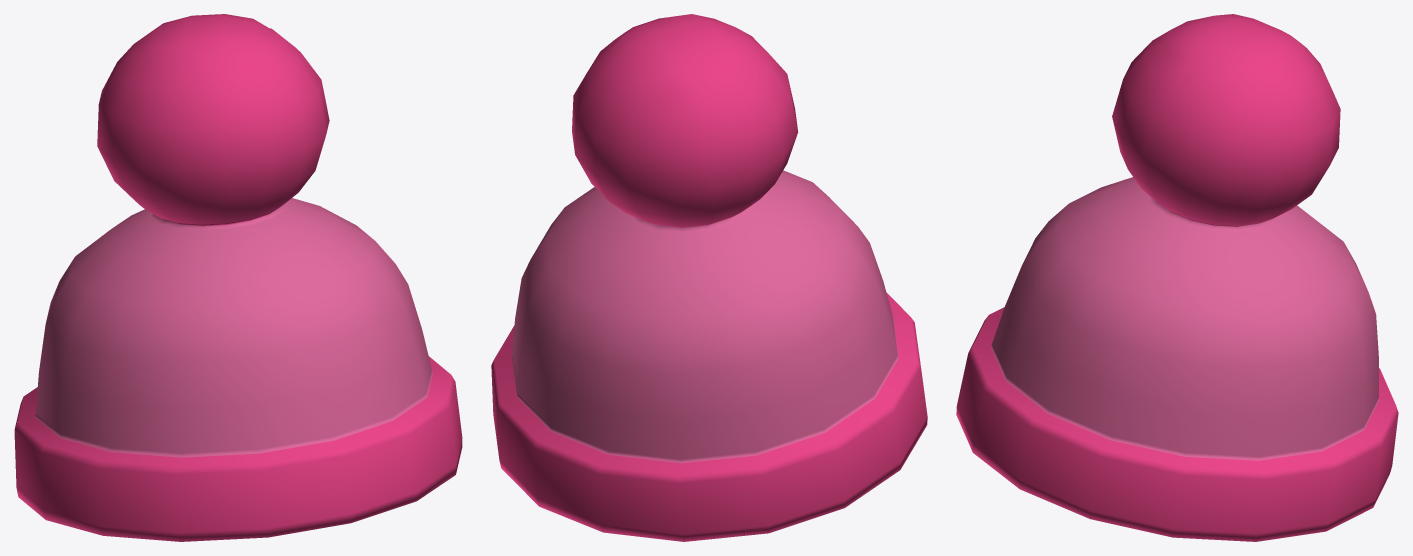
Rendered from bobbleHat.fbx.
3 renders of one model, left to right at view 1: azimuth 30°, elevation 25°; view 2: azimuth 150°, elevation 25°; view 3: azimuth 270°, elevation 25°, orthographic. The views are drawn at different scales.
Parts seen in each view (by area): view 1: bobble_hat; view 2: bobble_hat; view 3: bobble_hat.
Boxes of the visible parts, <box> form: bobble_hat: <box>14,14,462,541</box>; bobble_hat: <box>491,14,927,541</box>; bobble_hat: <box>956,14,1398,541</box>.
Bounding box in the file's own units: 11.35 × 12.71 × 11.38.
